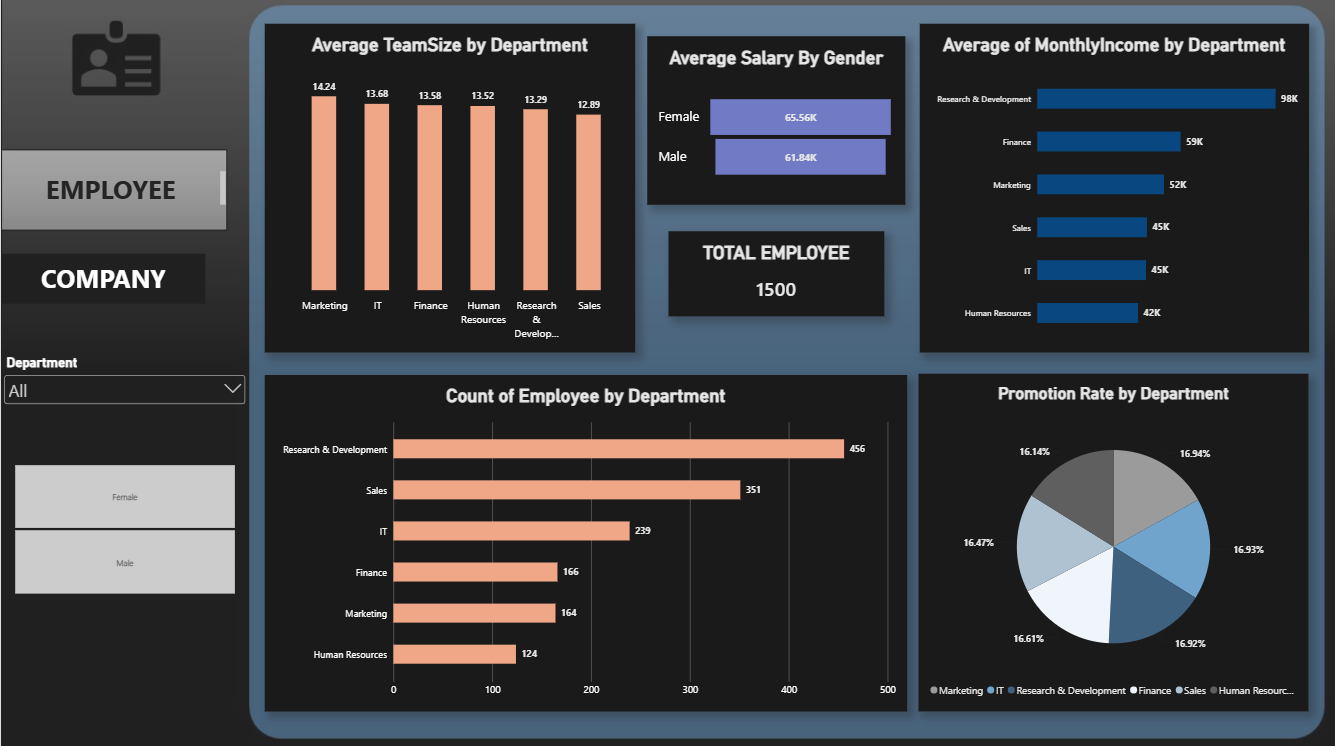

Layout of this report page (visuals, bound fields, positions):
{"tool":"powerbi","page":{"name":"EMPLOYEE","canvas":[1920,1080],"ordinal":0},"visuals":[{"type":"actionButton","box":[0,361.4,294.3,77.9],"z":0},{"type":"textbox","box":[0,246.3,323.6,48.5],"z":1000},{"type":"slicer","fields":{"Values":["HR_Analytics_Dataset (1).Department"]},"box":[0,490.9,356,118.7],"z":2000},{"type":"slicer","fields":{"Values":["HR_Analytics_Dataset (1).Gender"]},"box":[0,666.6,354.9,188.3],"z":3000},{"type":"funnel","title":"Average Salary By Gender","fields":{"Category":["Dataset.Gender"],"Y":["Avg(Dataset.MonthlyIncome)"]},"box":[929.6,51.9,371.3,242.4],"z":4000},{"type":"barChart","title":"Count of Employee by Department","fields":{"Category":["Dataset.Department"],"Y":["CountNonNull(Dataset.EmployeeID)"]},"box":[378.6,539.8,923.8,483.6],"z":5000},{"type":"pieChart","title":"Promotion Rate by Department","fields":{"Category":["Dataset.Department"],"Y":["Dataset.Prom"]},"box":[1319.6,537.5,560.9,485.4],"z":6000},{"type":"clusteredBarChart","fields":{"Category":["Dataset.Department"],"Y":["Avg(Dataset.MonthlyIncome)"]},"box":[1320.5,34.4,559.7,472.8],"z":7000},{"type":"columnChart","title":"Average TeamSize by Department","fields":{"Category":["Dataset.Department"],"Y":["Avg(Dataset.TeamSize)"]},"box":[378.6,34.4,532.5,472.8],"z":8000},{"type":"card","title":"TOTAL EMPLOYEE","fields":{"Values":["CountNonNull(Dataset.EmployeeID)"]},"box":[960.9,331.9,310.1,122.3],"z":8001}]}

Visuals, with their boxes in screenshot pixels (x1, y1, x2, y2), scaled from the page's 1920x1080 canvas onto the 1335x746 screenshot:
actionButton: box=[0, 250, 205, 303]
textbox: box=[0, 170, 225, 204]
slicer - HR_Analytics_Dataset (1).Department: box=[0, 339, 248, 421]
slicer - HR_Analytics_Dataset (1).Gender: box=[0, 460, 247, 591]
"Average Salary By Gender" funnel: box=[646, 36, 905, 203]
"Count of Employee by Department" barChart: box=[263, 373, 906, 707]
"Promotion Rate by Department" pieChart: box=[918, 371, 1308, 707]
clusteredBarChart - Dataset.Department x Avg(Dataset.MonthlyIncome): box=[918, 24, 1307, 350]
"Average TeamSize by Department" columnChart: box=[263, 24, 633, 350]
"TOTAL EMPLOYEE" card: box=[668, 229, 884, 314]
